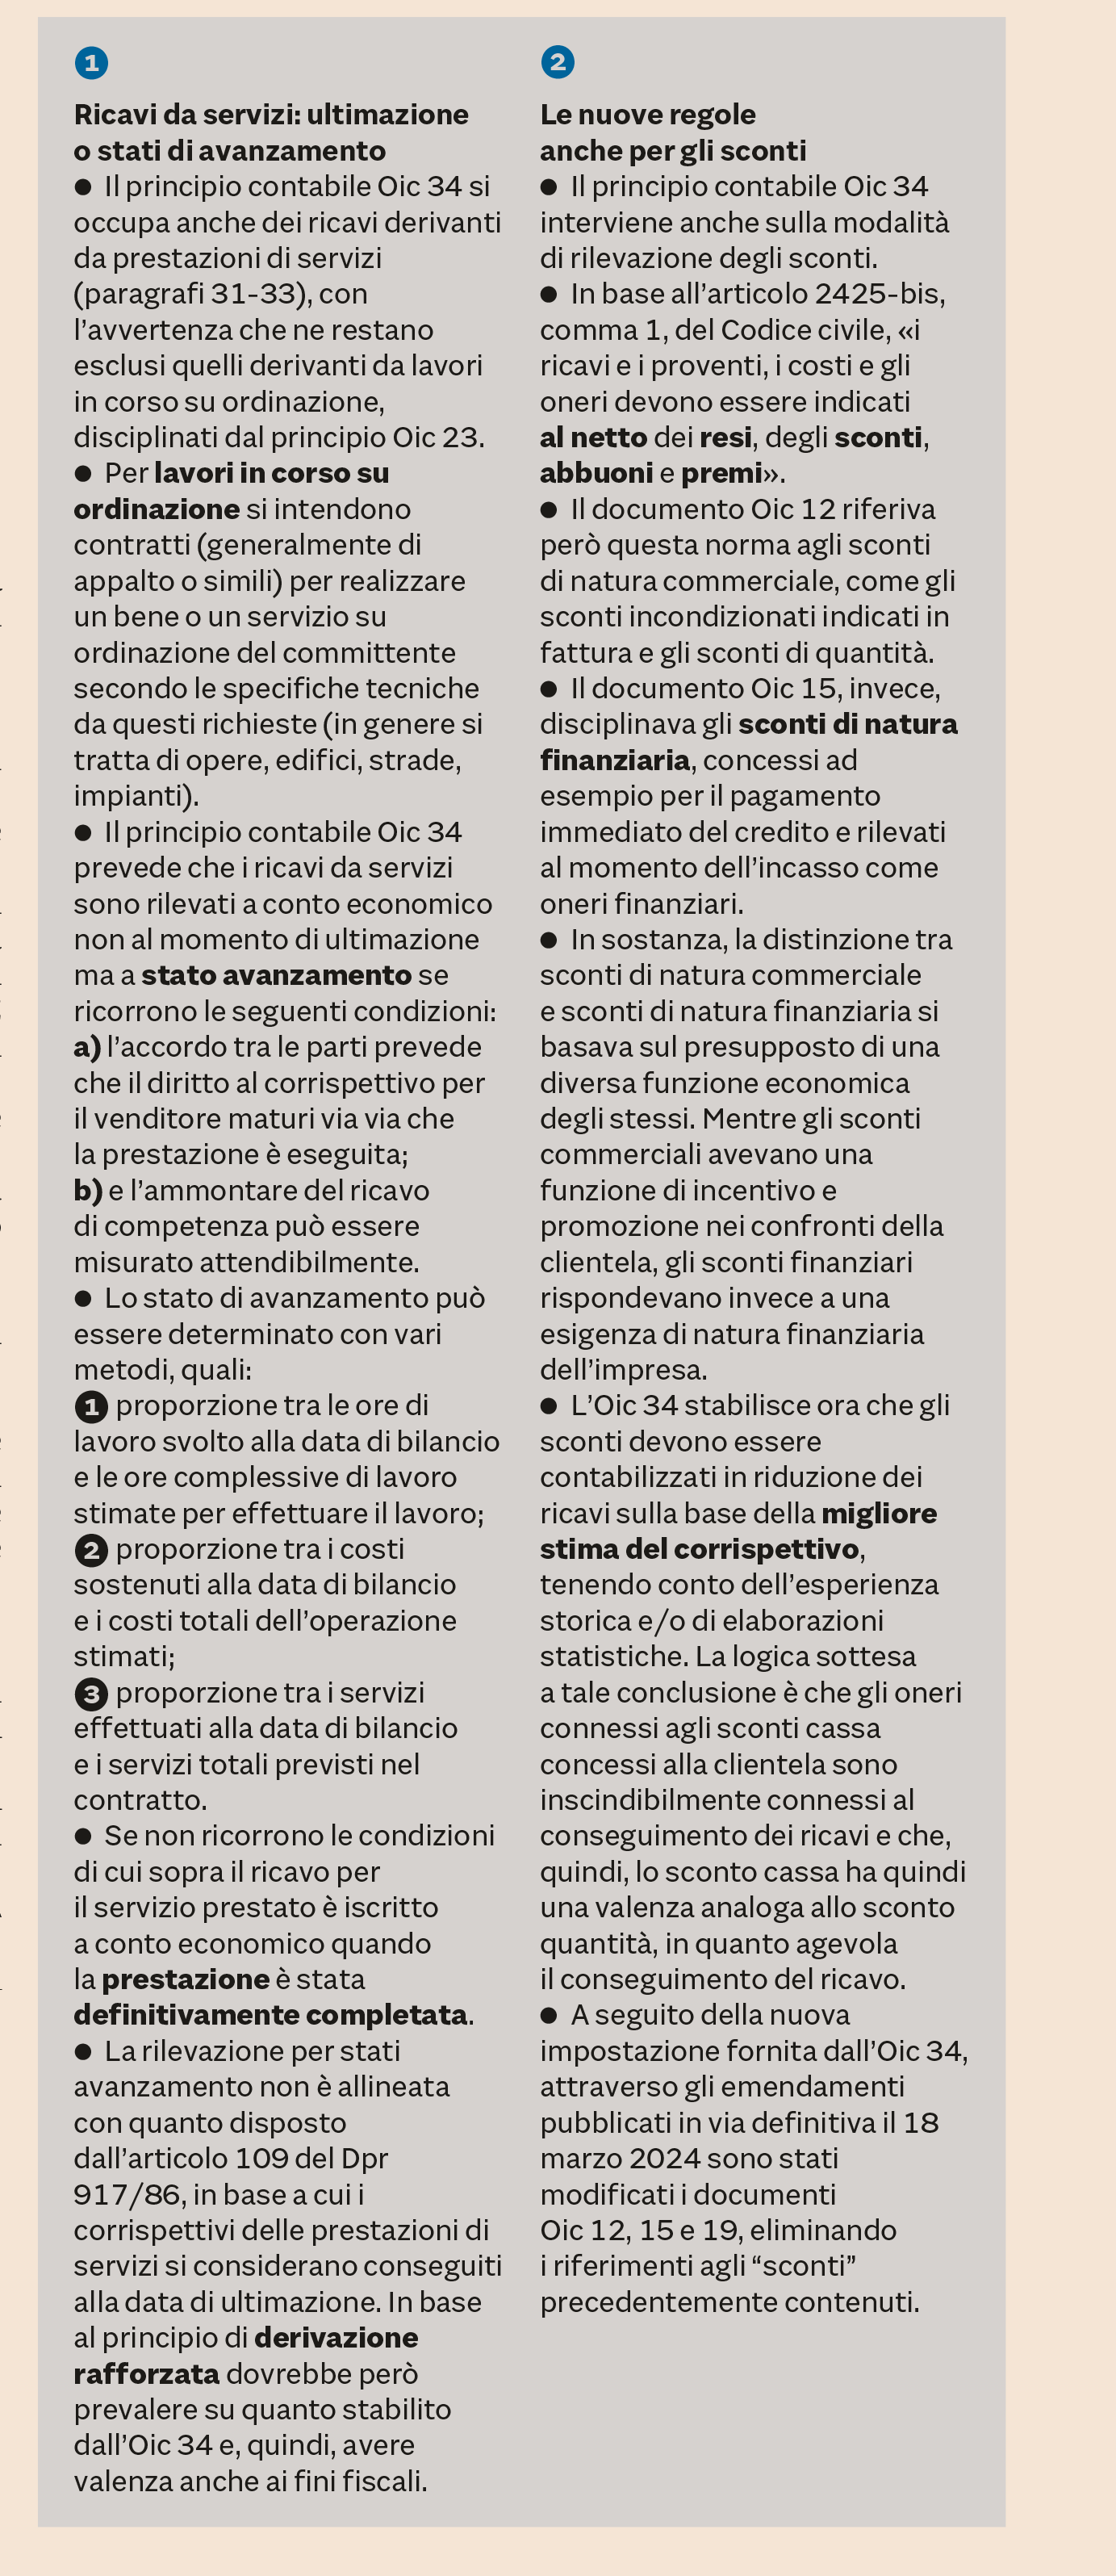scheda-puntata-numero-2: (53, 26, 520, 2512), (519, 28, 993, 2333)
